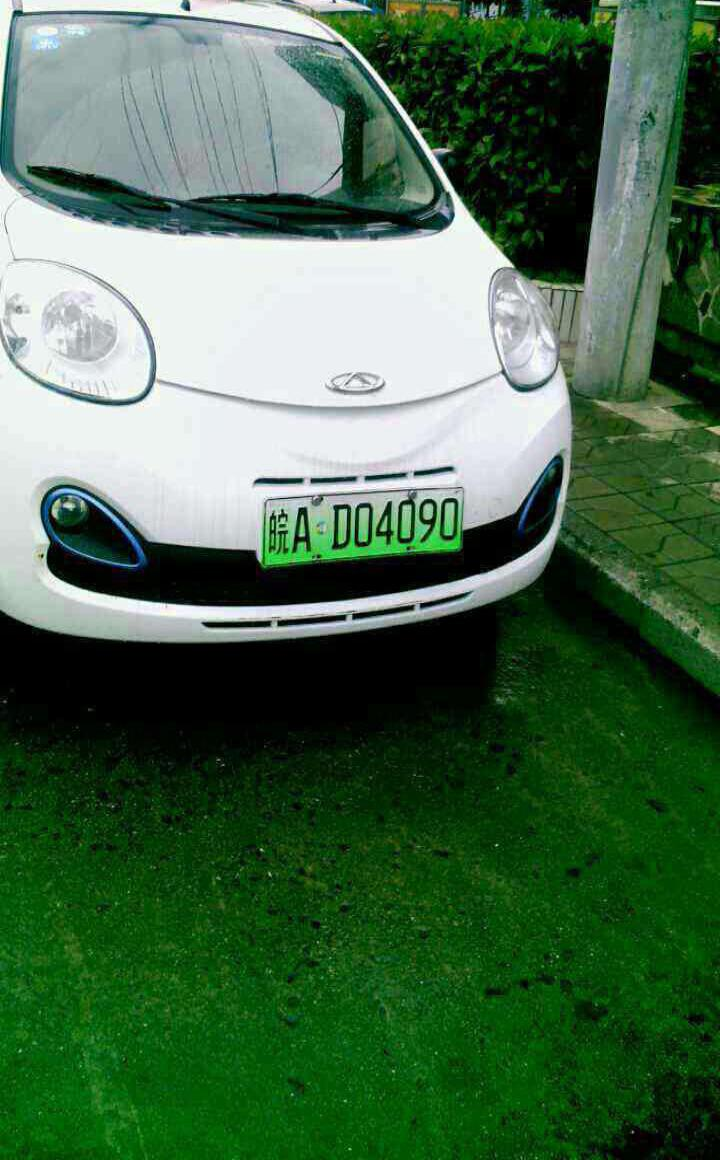car: (263, 497, 470, 564)
